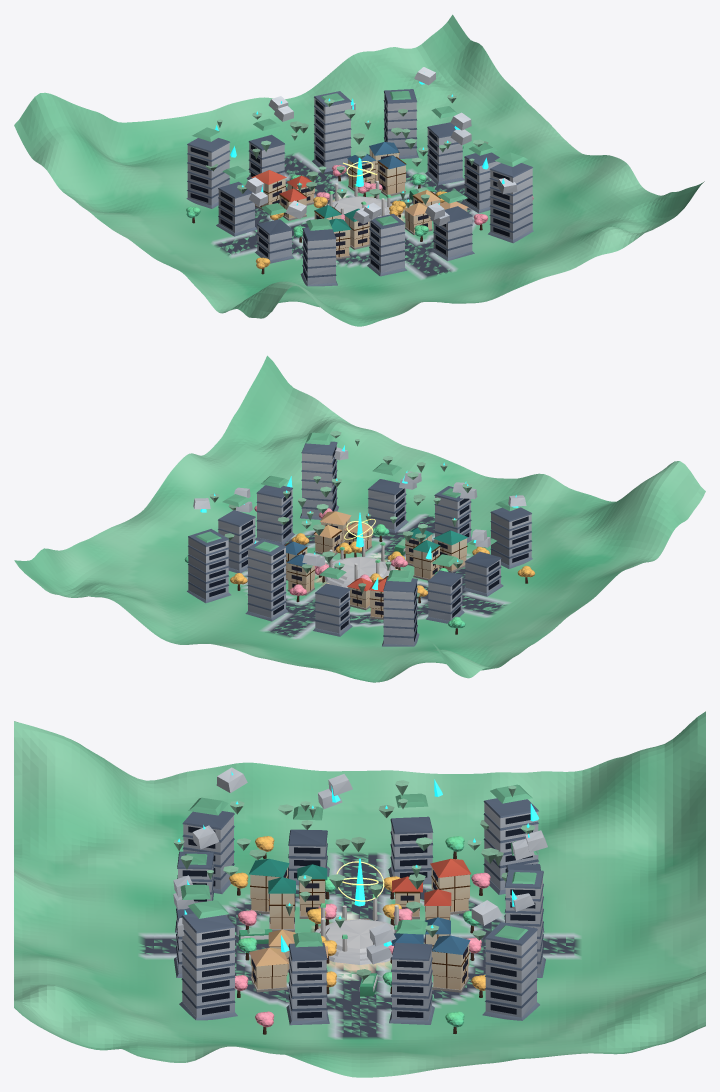
File: Genshin_Anime_PostApoc_City.glb
3 views of the same model, one above another, from view 1: azimuth 30°, elevation 25°; view 2: azimuth 150°, elevation 25°; view 3: azimuth 270°, elevation 25° (orthographic). The views are drawn at different scales.
Visible parts, largest first — view 1: Genshin_Anime_PostApoc_City, Anime_City_Plaster_Walls, Anime_City_Stone_Foundations, Antigravity_Sky_Islands, Anime_City_Timber_Frames, Anime_Sakura_Ginkgo_Foliage, Anime_City_Tiled_Roofs; view 2: Genshin_Anime_PostApoc_City, Anime_City_Plaster_Walls, Anime_City_Stone_Foundations, Anime_Sakura_Ginkgo_Foliage, Anime_City_Timber_Frames, Antigravity_Sky_Islands, Anime_City_Tiled_Roofs; view 3: Genshin_Anime_PostApoc_City, Anime_City_Plaster_Walls, Anime_City_Stone_Foundations, Anime_Sakura_Ginkgo_Foliage, Anime_City_Timber_Frames, Antigravity_Sky_Islands, Anime_City_Tiled_Roofs, Celestial_Leyline_Crystals.
Boxes of the visible parts, box(x1,y1,x2,y2) form: Genshin_Anime_PostApoc_City: box(14, 14, 704, 326); Anime_City_Plaster_Walls: box(187, 94, 532, 284); Anime_City_Stone_Foundations: box(186, 89, 533, 286); Antigravity_Sky_Islands: box(205, 67, 517, 226); Anime_City_Timber_Frames: box(190, 95, 509, 280); Anime_Sakura_Ginkgo_Foliage: box(186, 91, 533, 268); Anime_City_Tiled_Roofs: box(251, 142, 468, 231); Genshin_Anime_PostApoc_City: box(14, 355, 705, 682); Anime_City_Plaster_Walls: box(188, 445, 531, 645); Anime_City_Stone_Foundations: box(187, 441, 532, 646); Anime_Sakura_Ginkgo_Foliage: box(184, 432, 535, 628); Anime_City_Timber_Frames: box(209, 446, 528, 641); Antigravity_Sky_Islands: box(193, 431, 526, 598); Anime_City_Tiled_Roofs: box(286, 511, 467, 591); Genshin_Anime_PostApoc_City: box(14, 711, 705, 1077); Anime_City_Plaster_Walls: box(176, 803, 542, 1020); Anime_City_Stone_Foundations: box(174, 798, 545, 1025); Anime_Sakura_Ginkgo_Foliage: box(180, 784, 537, 1027); Anime_City_Timber_Frames: box(182, 814, 535, 1034); Antigravity_Sky_Islands: box(173, 767, 547, 979); Anime_City_Tiled_Roofs: box(248, 858, 470, 966); Celestial_Leyline_Crystals: box(177, 771, 539, 952).
Size of the model in its own units: 160 by 31.99 by 160.
